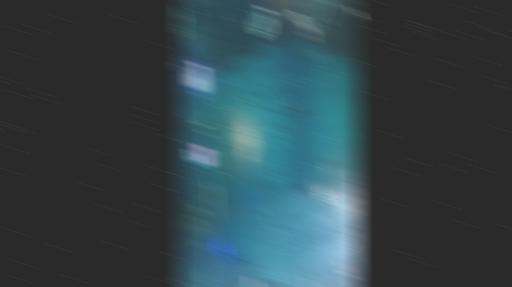Fish: (252, 6, 273, 37), (291, 12, 314, 39), (314, 181, 327, 201), (326, 154, 337, 175), (324, 181, 333, 198), (283, 209, 291, 226), (271, 216, 279, 233), (285, 95, 293, 111), (349, 7, 360, 18), (261, 93, 270, 105), (305, 273, 313, 286), (276, 224, 282, 238), (270, 120, 281, 127), (247, 98, 255, 107), (264, 106, 275, 112), (295, 185, 314, 188), (254, 204, 260, 213), (350, 277, 356, 286), (247, 90, 255, 96), (263, 201, 269, 209), (291, 108, 306, 111), (258, 215, 267, 220), (256, 102, 262, 109), (258, 213, 264, 220), (304, 208, 310, 215), (178, 278, 184, 284), (242, 97, 253, 100), (255, 83, 263, 87), (258, 205, 264, 210), (247, 111, 253, 116), (257, 90, 266, 93), (305, 189, 307, 194), (296, 203, 298, 208)
